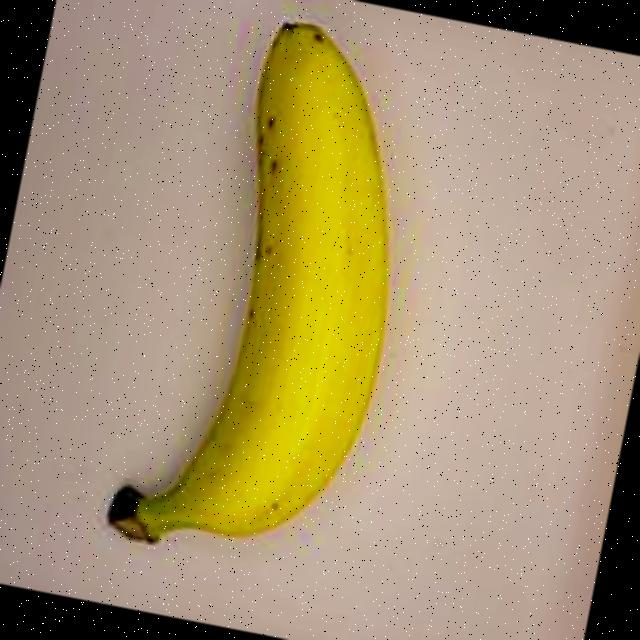Ripe: (56, 0, 472, 605)
